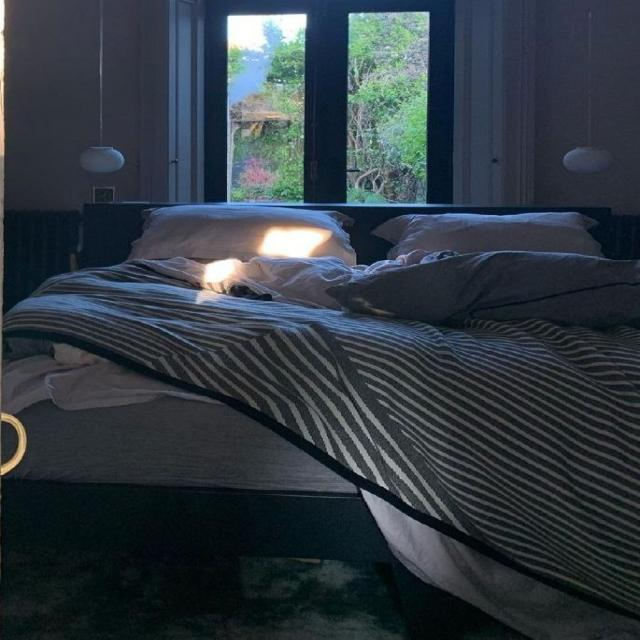bed: (0, 189, 640, 542)
